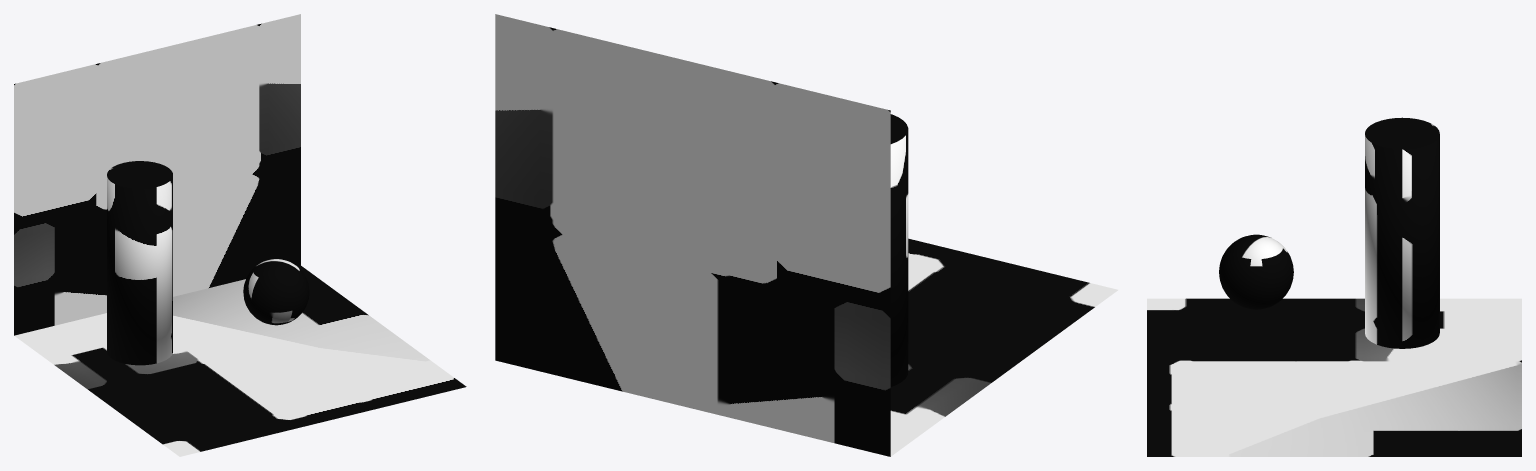
Rendered from lightmap.dae.
3 views of the same model, side by side, from view 1: azimuth 30°, elevation 25°; view 2: azimuth 150°, elevation 25°; view 3: azimuth 270°, elevation 25° (orthographic). The views are drawn at different scales.
Parts seen in each view (by area): view 1: static_objects; view 2: static_objects; view 3: static_objects.
Boxes of the visible parts, x1,y1,x2,y2 form: static_objects: (14,14,466,456); static_objects: (495,14,1117,456); static_objects: (1147,117,1521,456).
Bounding box in the file's own units: 10 × 10 × 8.38.
1 material, 1 textured.
